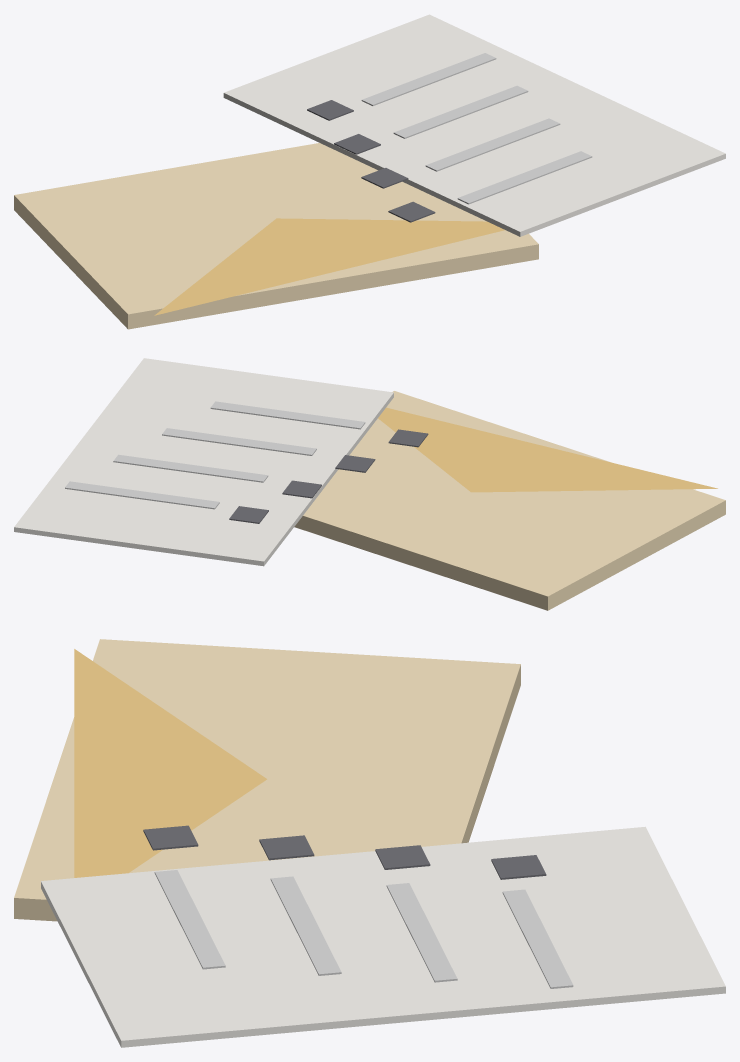
The model's file is prop_ballot_paper_01.glb.
3 views of the same model, one above another, from view 1: azimuth 30°, elevation 25°; view 2: azimuth 150°, elevation 25°; view 3: azimuth 270°, elevation 25° (orthographic). The views are drawn at different scales.
Parts seen in each view (by area): view 1: prop_ballot_paper_01_body; view 2: prop_ballot_paper_01_body; view 3: prop_ballot_paper_01_body.
Boxes of the visible parts, x1=… form: prop_ballot_paper_01_body: x1=14, y1=14, x2=725, y2=329; prop_ballot_paper_01_body: x1=14, y1=358, x2=725, y2=610; prop_ballot_paper_01_body: x1=14, y1=639, x2=725, y2=1047.
Bounding box in the file's own units: 0.2524 × 0.00955 × 0.1842.
